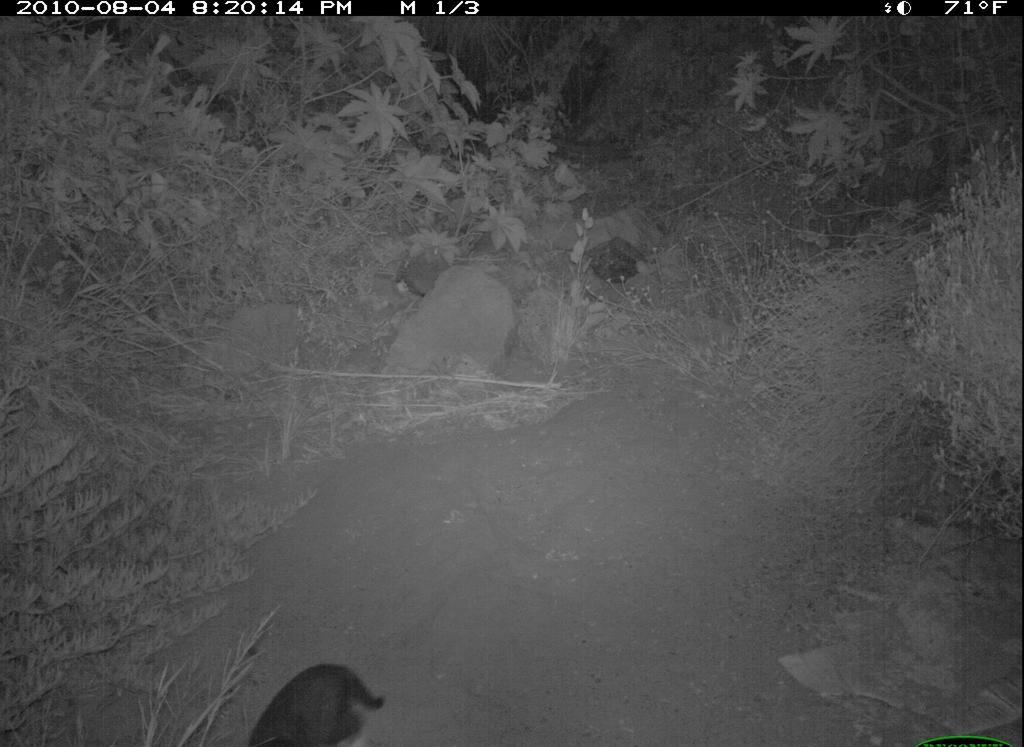cat: (233, 651, 405, 747)
